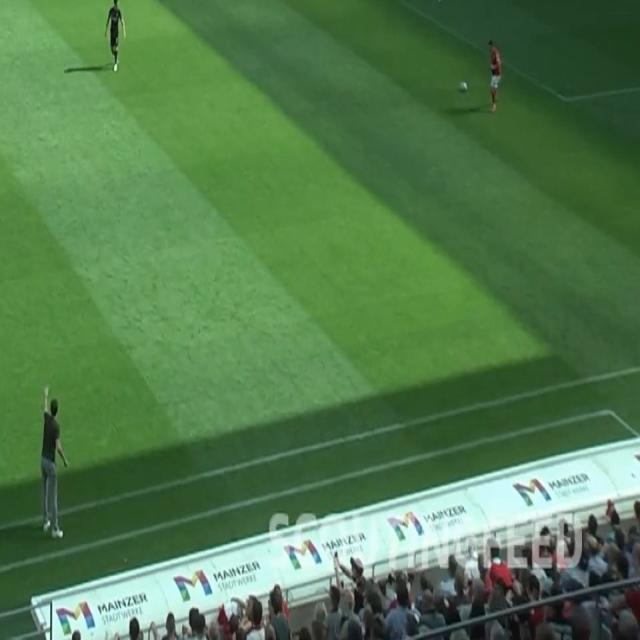ball: (459, 81, 468, 92)
